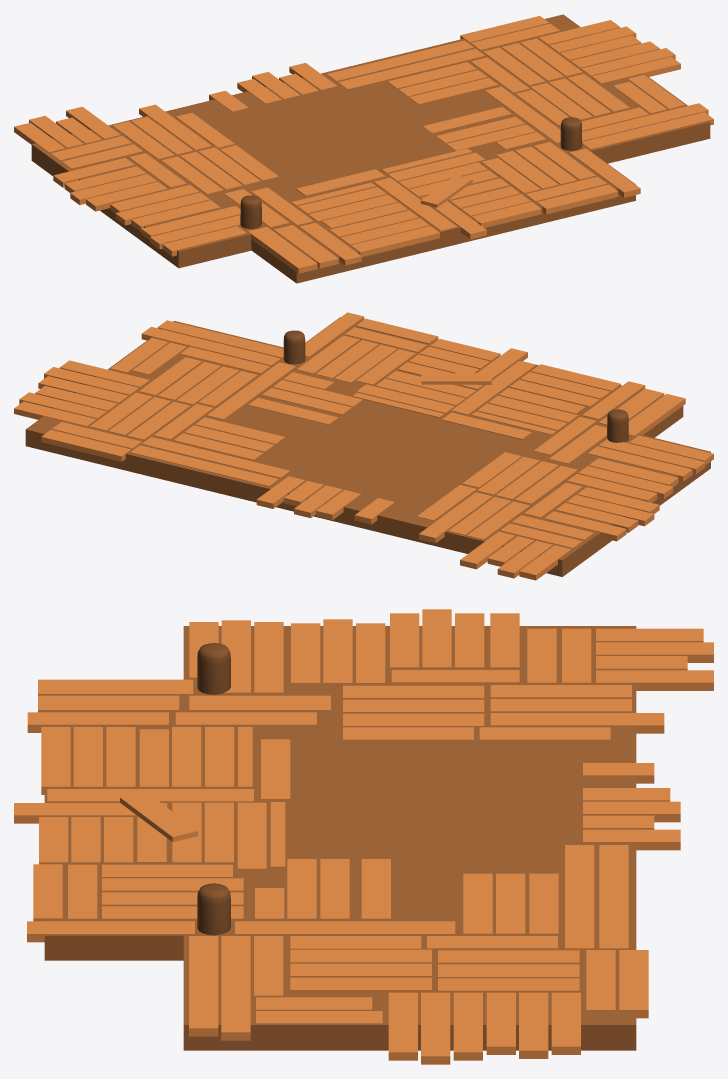
The model's file is Plataforma 01.fbx.
3 renders of one model, top to bottom at view 1: azimuth 30°, elevation 25°; view 2: azimuth 150°, elevation 25°; view 3: azimuth 270°, elevation 25°, orthographic. The views are drawn at different scales.
Parts seen in each view (by area): view 1: Cube; view 2: Cube; view 3: Cube.
Part boxes in pixels (x1,y1,x2,y2): Cube: [14, 14, 713, 283]; Cube: [14, 312, 713, 580]; Cube: [14, 609, 713, 1064].
Bounding box in the file's own units: 1583 × 110 × 1048.
